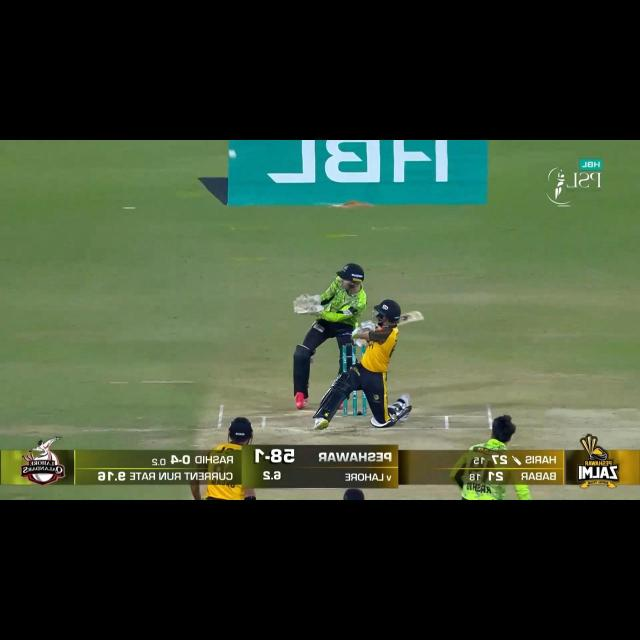bat: (400, 310, 425, 324)
toe: (412, 308, 424, 323)
